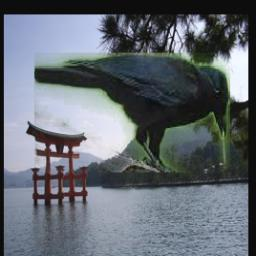Crow: (33, 53, 229, 172)
